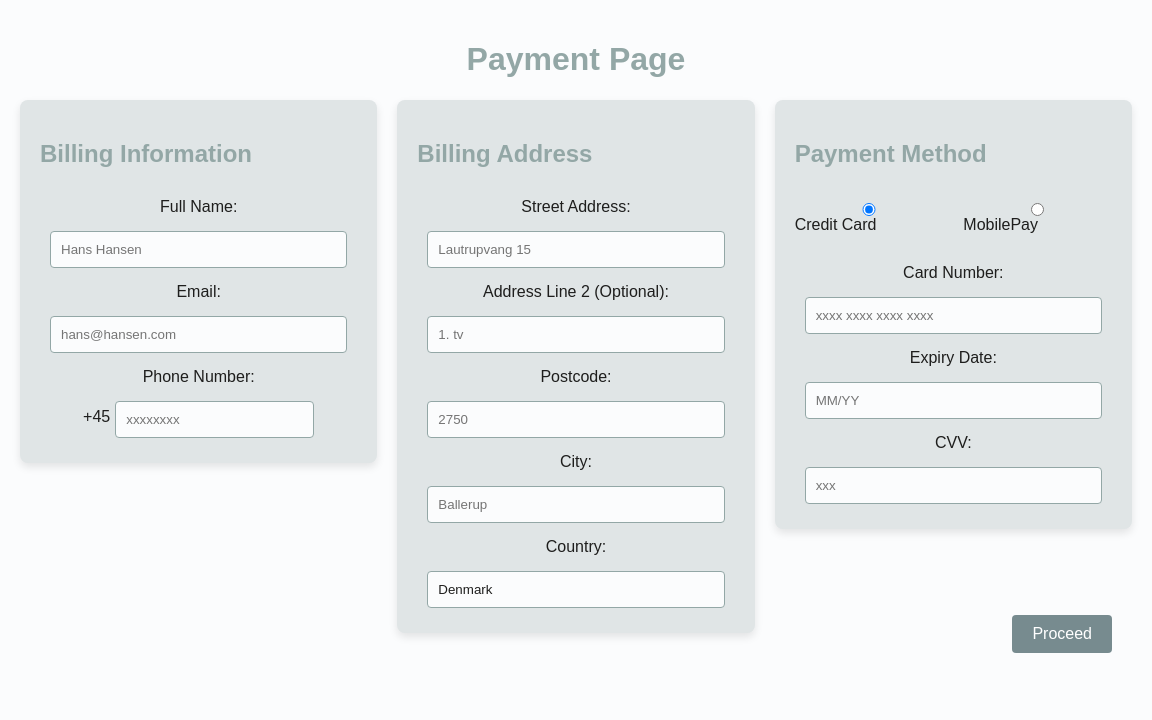
Scenario: PaymentPage Component › switches payment methods correctly
Expected: the field with placeholder "xxxx xxxx xxxx xxxx" is shown, [805, 297, 1102, 334]
# Switch to MobilePay
Click the radio button labelled "MobilePay" at (1038, 209), box [968, 203, 1107, 216]
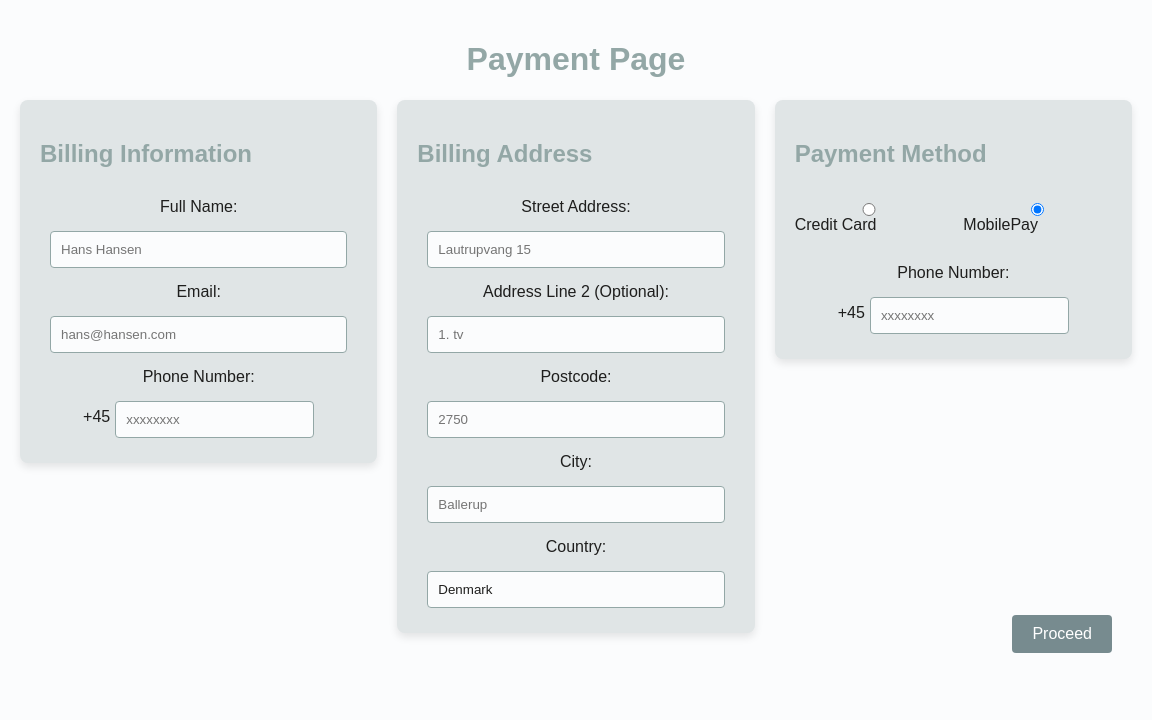
Expected: the field with placeholder "xxxx xxxx xxxx xxxx" is not shown
Result: the field with placeholder "xxxxxxxx" below "Credit Card" is shown at [870, 297, 1069, 334]
